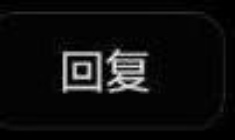Button: (1, 1, 234, 139)
